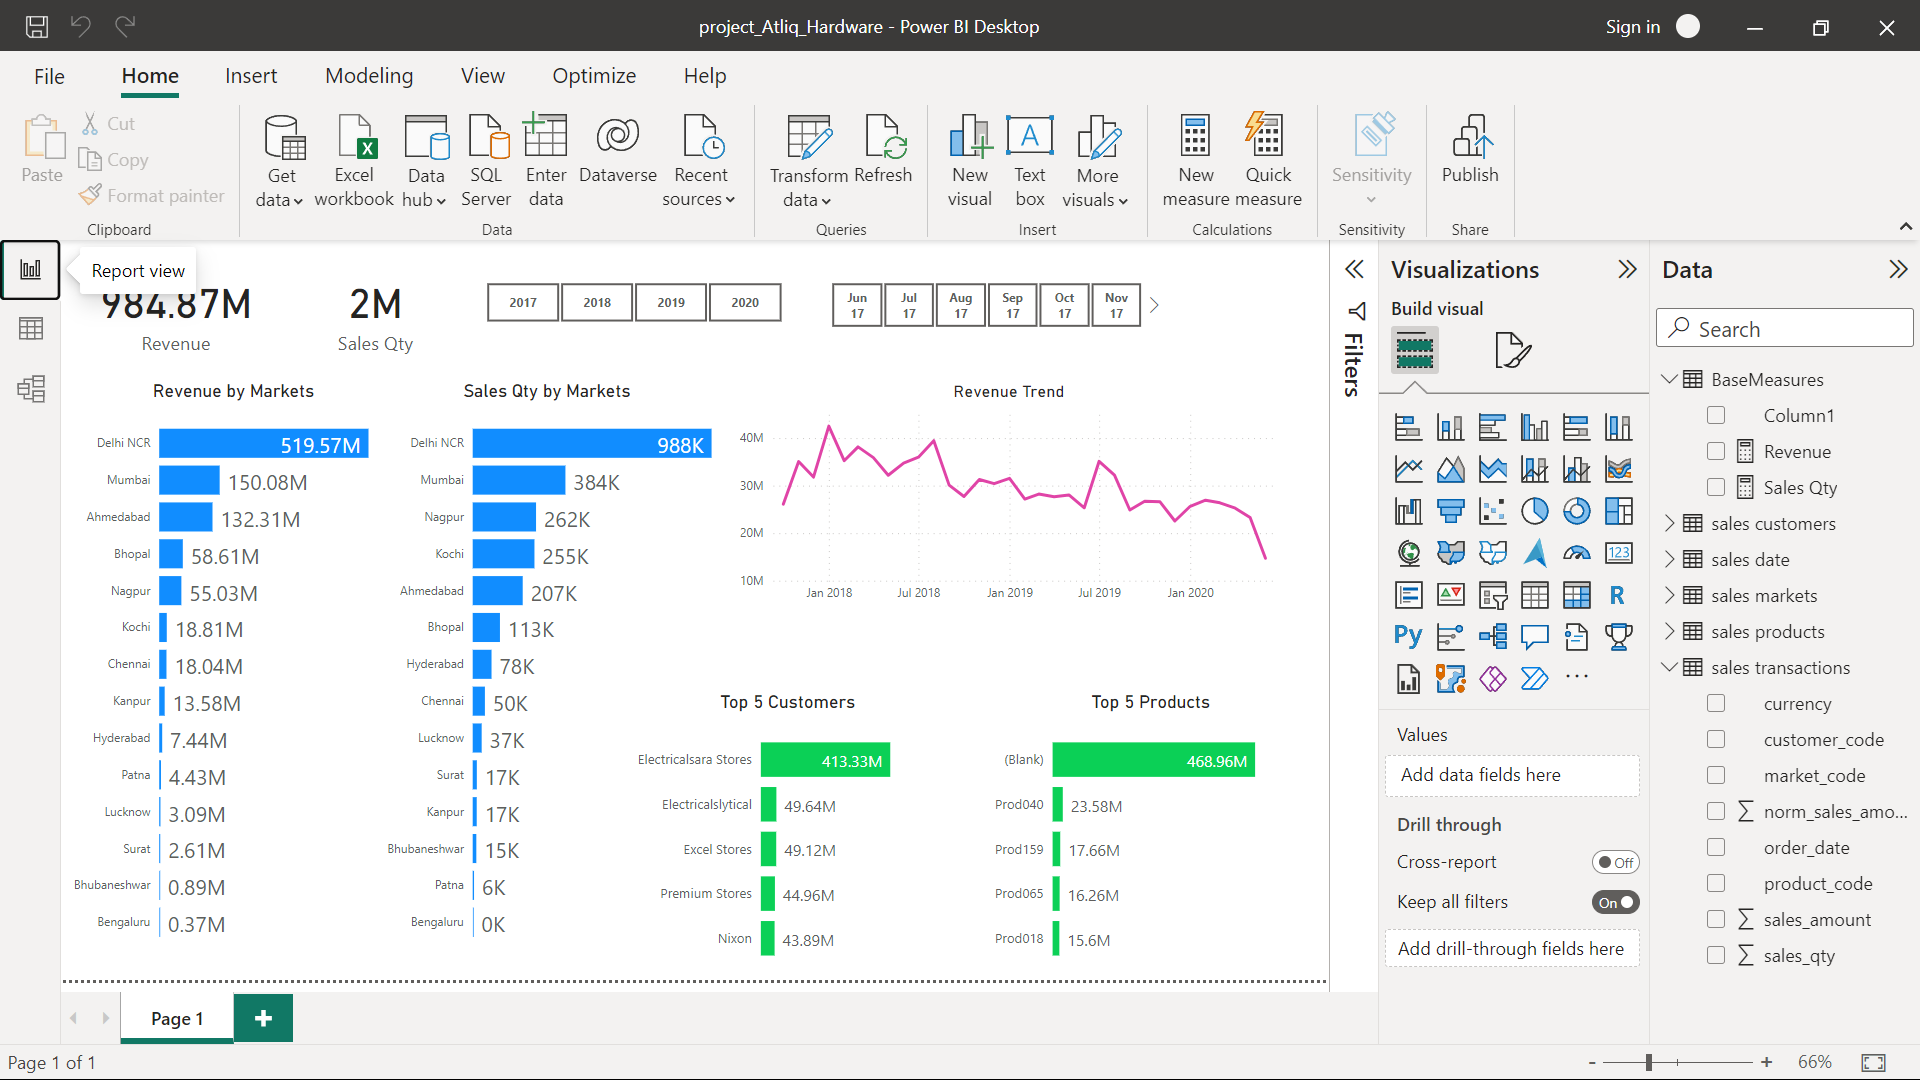

The page's visual inventory and layout, read from the dashboard file:
{"tool":"powerbi","page":{"name":"Page 1","canvas":[1280,747],"ordinal":0},"visuals":[{"type":"card","fields":{"Values":["BaseMeasures.Revenue"]},"box":[15.2,0,201.5,142.4],"z":0},{"type":"card","fields":{"Values":["BaseMeasures.Sales Qty"]},"box":[216.7,0,201.5,142.4],"z":1},{"type":"barChart","title":"Revenue by Markets","fields":{"Y":["BaseMeasures.Revenue"],"Category":["sales markets.markets_name"]},"box":[0,142.4,348.5,581.8],"z":2},{"type":"barChart","title":"Sales Qty by Markets","fields":{"Y":["BaseMeasures.Sales Qty"],"Category":["sales markets.markets_name"]},"box":[316.7,142.4,348.5,581.8],"z":3},{"type":"slicer","fields":{"Values":["sales date.year"]},"box":[404.6,36.4,347,53],"z":4},{"type":"slicer","fields":{"Values":["sales date.cy_date"]},"box":[753.1,36.4,362.1,53],"z":5},{"type":"barChart","title":"Top 5 Customers","fields":{"Y":["BaseMeasures.Revenue"],"Category":["sales customers.custmer_name"]},"box":[566.7,456.1,334.9,290.9],"z":6},{"type":"barChart","title":"Top 5 Products","fields":{"Y":["BaseMeasures.Revenue"],"Category":["sales products.product_code"]},"box":[933.4,456.1,334.9,290.9],"z":7},{"type":"lineChart","title":"Revenue Trend","fields":{"Y":["BaseMeasures.Revenue"],"Category":["sales date.cy_date"]},"box":[680.3,142.4,554.6,231.8],"z":8}]}

Visuals, with their boxes on the page's 1280x747 design canvas (x1, y1, x2, y2). These are canvas units, not pixel positions in the 1920x1080 screenshot, which may show the page scaled, cropped or inside an application window:
card - BaseMeasures.Revenue: <box>15,0,217,142</box>
card - BaseMeasures.Sales Qty: <box>217,0,418,142</box>
"Revenue by Markets" barChart: <box>0,142,348,724</box>
"Sales Qty by Markets" barChart: <box>317,142,665,724</box>
slicer - sales date.year: <box>405,36,752,89</box>
slicer - sales date.cy_date: <box>753,36,1115,89</box>
"Top 5 Customers" barChart: <box>567,456,902,747</box>
"Top 5 Products" barChart: <box>933,456,1268,747</box>
"Revenue Trend" lineChart: <box>680,142,1235,374</box>
